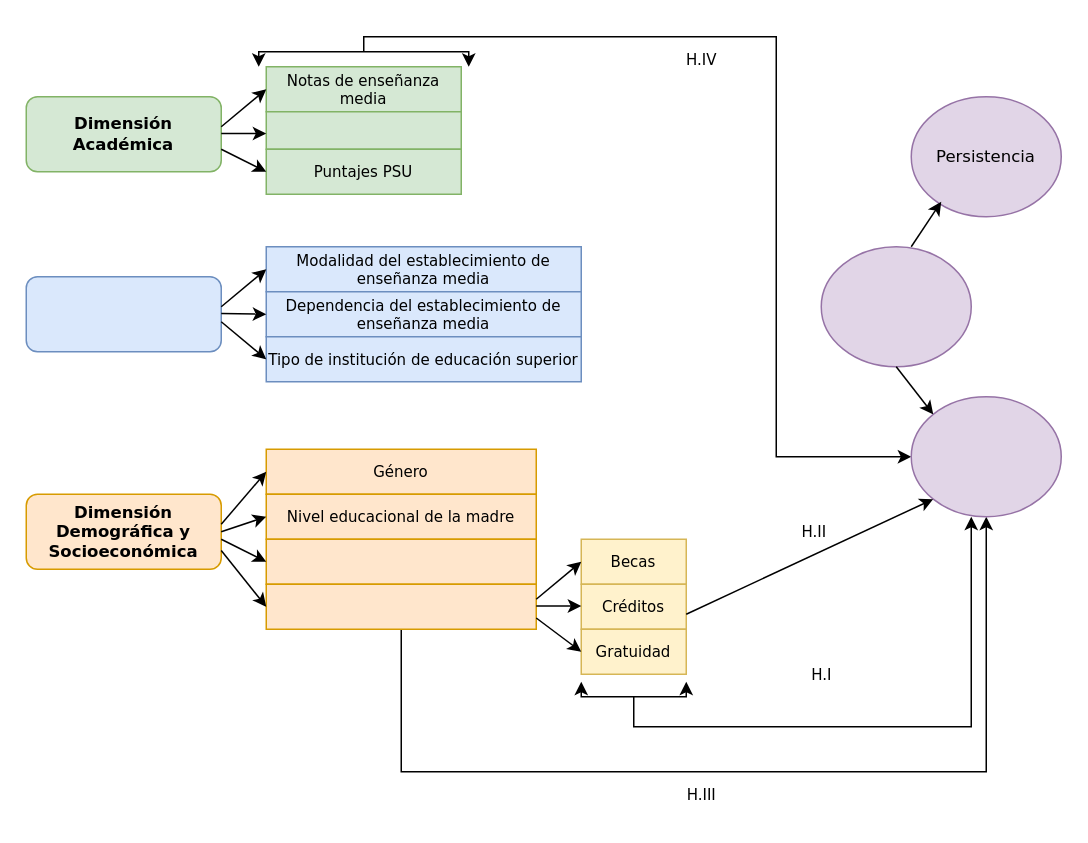
This 1088x843 diagram has some shape labels left out. The box of each missing label's shape, as (x1, y1, x2, y2) in pixels:
Deserción: (910, 395, 1061, 517)
Dimensión Institucional: (25, 275, 221, 352)
Nivel de ingreso familiar: (265, 538, 536, 584)
Puntaje Ranking: (265, 110, 461, 149)
Tipo de beneficio con el que cuenta: (265, 583, 536, 629)
Trayectoria: (820, 245, 971, 367)
